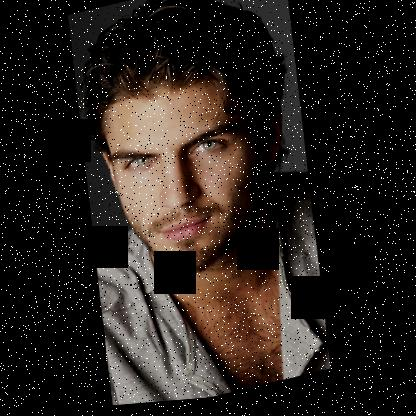Male: (85, 50, 307, 295)
